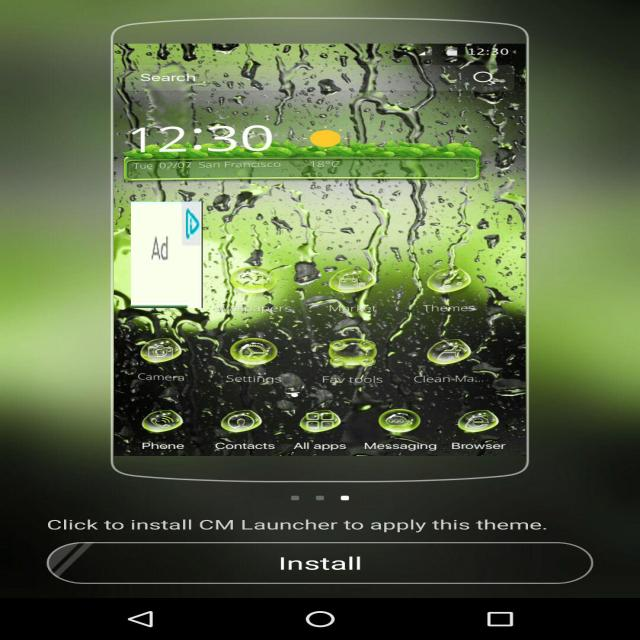sneaking: (131, 202, 203, 308)
